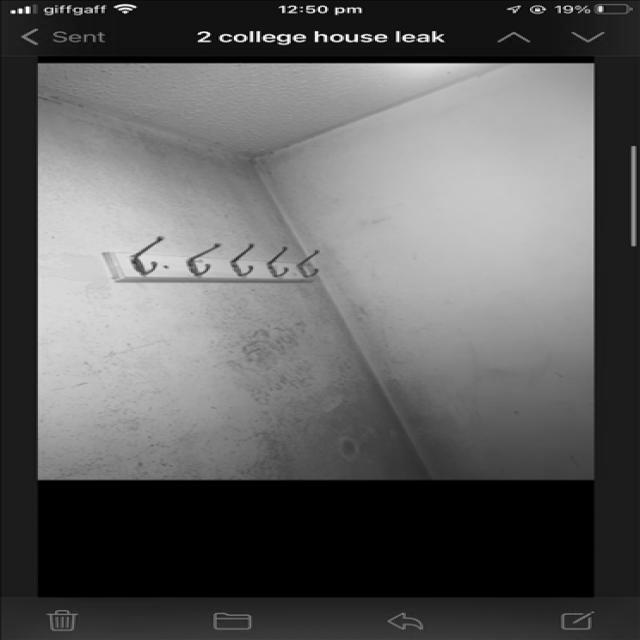stain marks: (39, 280, 562, 479), (35, 76, 318, 196), (37, 196, 422, 280)
